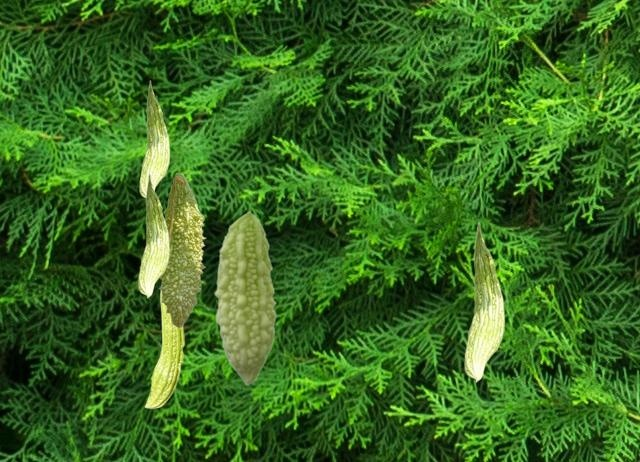ampalaya: (214, 211, 277, 385), (158, 172, 206, 329), (463, 221, 505, 383), (144, 291, 185, 409), (137, 173, 170, 299), (139, 79, 170, 198)
